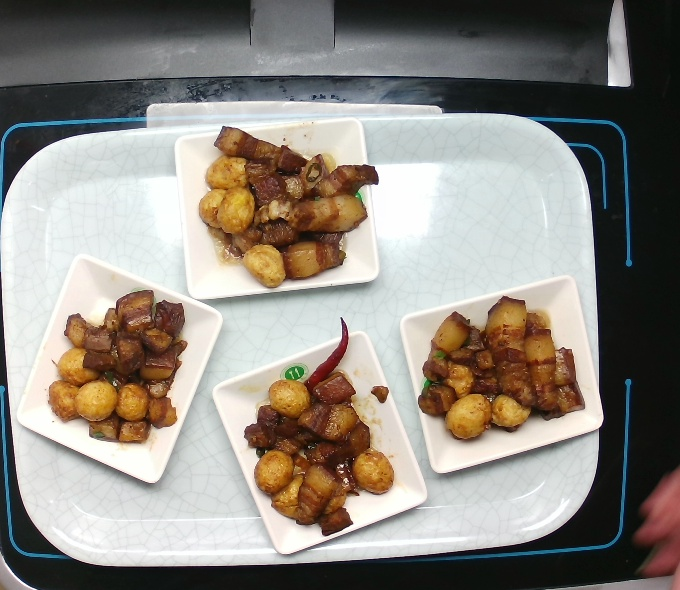wcq-HongShaoRouChaoAnChunDan: (233, 311, 400, 538), (194, 122, 384, 294), (412, 289, 591, 447), (40, 284, 191, 453)
